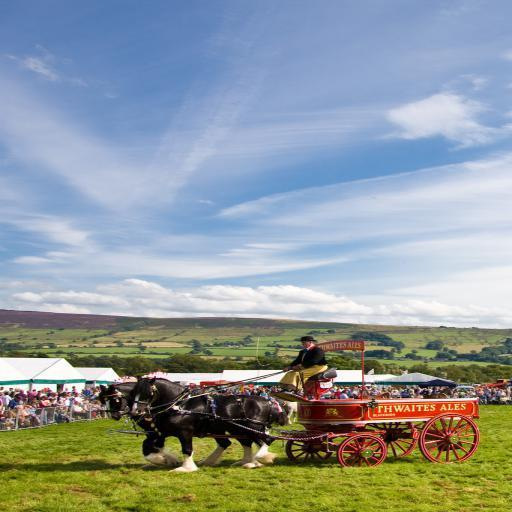horse: (126, 376, 288, 473), (98, 382, 254, 470)
